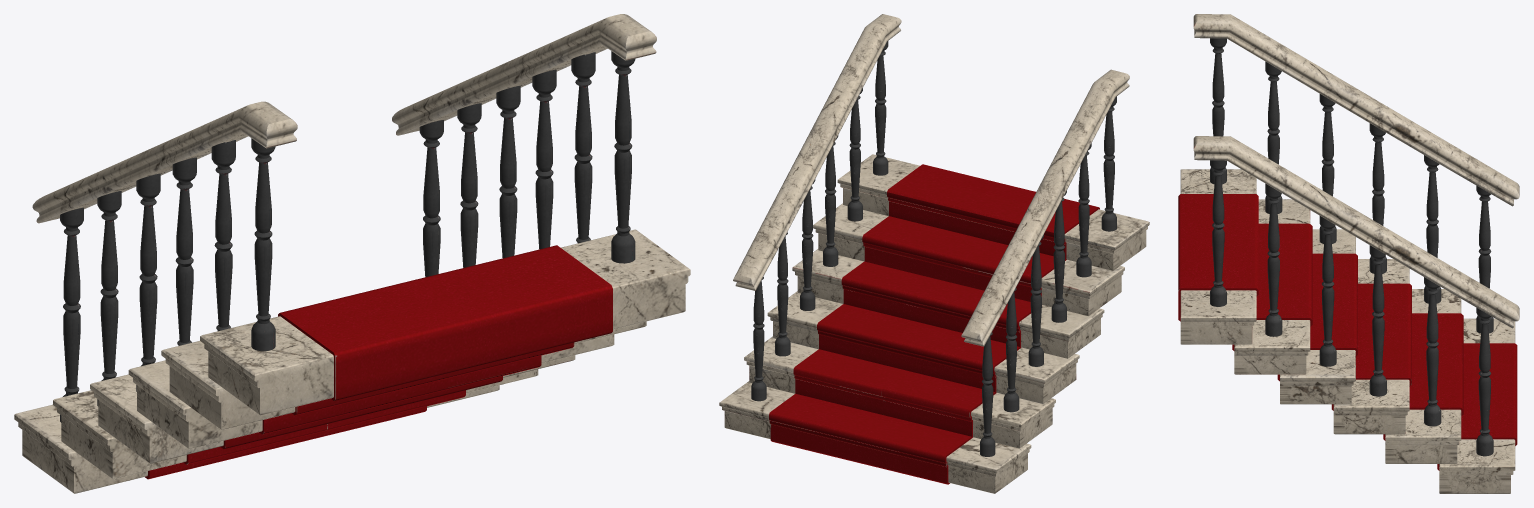
Rendered from railing_stairs_01.glb.
3 renders of one model, left to right at view 1: azimuth 30°, elevation 25°; view 2: azimuth 150°, elevation 25°; view 3: azimuth 270°, elevation 25°, orthographic. The views are drawn at different scales.
Parts seen in each view (by area): view 1: pCube7, pCube8, pCube9, pCylinder21, pCylinder22, pCylinder15, pCylinder20, pCylinder19, pCylinder13, pCylinder17, pCylinder12, pCylinder18 (+3 smaller); view 2: pCube7, pCube9, pCube8, pCylinder21, pCylinder22, pCylinder19, pCylinder20, pCylinder15, pCylinder17, pCylinder11, pCylinder16, pCylinder12 (+3 smaller); view 3: pCube7, pCube8, pCube9, pCylinder20, pCylinder16, pCylinder22, pCylinder18, pCylinder14, pCylinder11, pCylinder21, pCylinder19, pCylinder15 (+3 smaller).
Boxes of the visible parts, x1,y1,x2,y2 form: pCube7: [14, 229, 690, 493]; pCube8: [392, 14, 656, 135]; pCube9: [32, 101, 297, 223]; pCylinder21: [251, 138, 275, 351]; pCylinder22: [611, 51, 635, 263]; pCylinder15: [136, 173, 160, 391]; pCylinder20: [571, 52, 595, 243]; pCylinder19: [211, 140, 235, 331]; pCylinder13: [97, 191, 121, 406]; pCylinder17: [172, 157, 196, 345]; pCylinder12: [60, 207, 83, 422]; pCylinder18: [532, 69, 556, 249]; pCube7: [719, 154, 1149, 493]; pCube9: [961, 69, 1129, 346]; pCube8: [733, 14, 901, 290]; pCylinder21: [1101, 96, 1116, 231]; pCylinder22: [873, 41, 888, 175]; pCylinder19: [1076, 143, 1091, 277]; pCylinder20: [847, 88, 862, 221]; pCylinder15: [1028, 234, 1043, 366]; pCylinder17: [1051, 190, 1066, 322]; pCylinder11: [751, 277, 766, 401]; pCylinder16: [800, 179, 815, 310]; pCylinder12: [980, 326, 995, 456]; pCube7: [1178, 169, 1517, 493]; pCube8: [1193, 136, 1519, 328]; pCube9: [1193, 14, 1519, 206]; pCylinder20: [1265, 183, 1282, 336]; pCylinder16: [1369, 245, 1386, 396]; pCylinder22: [1210, 160, 1226, 306]; pCylinder18: [1319, 216, 1336, 366]; pCylinder14: [1424, 277, 1441, 426]; pCylinder11: [1476, 307, 1493, 456]; pCylinder21: [1210, 38, 1226, 184]; pCylinder19: [1265, 61, 1282, 213]; pCylinder15: [1369, 123, 1386, 273].
Size of the model in its own units: 0.083 by 0.0904 by 0.0808.
Materials: 1 (1 with a texture image).
